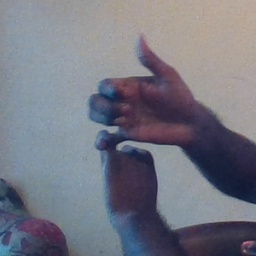S: (83, 27, 204, 197)
